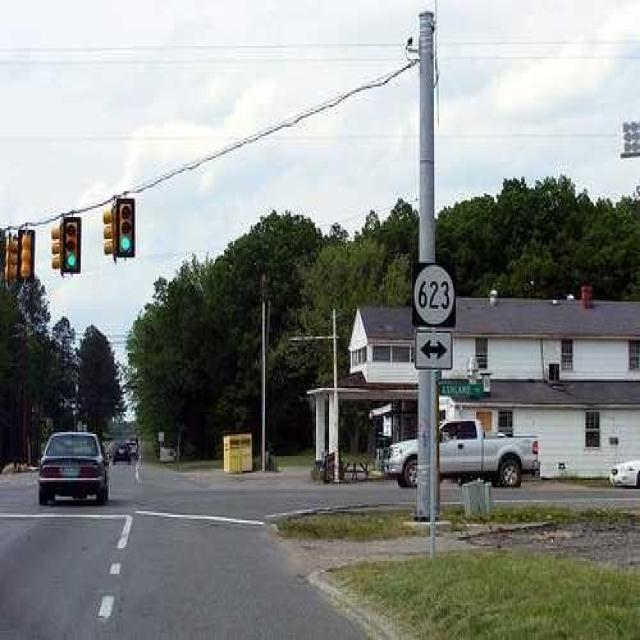Traffic Light -Green-: (114, 197, 138, 259), (59, 217, 83, 274)
